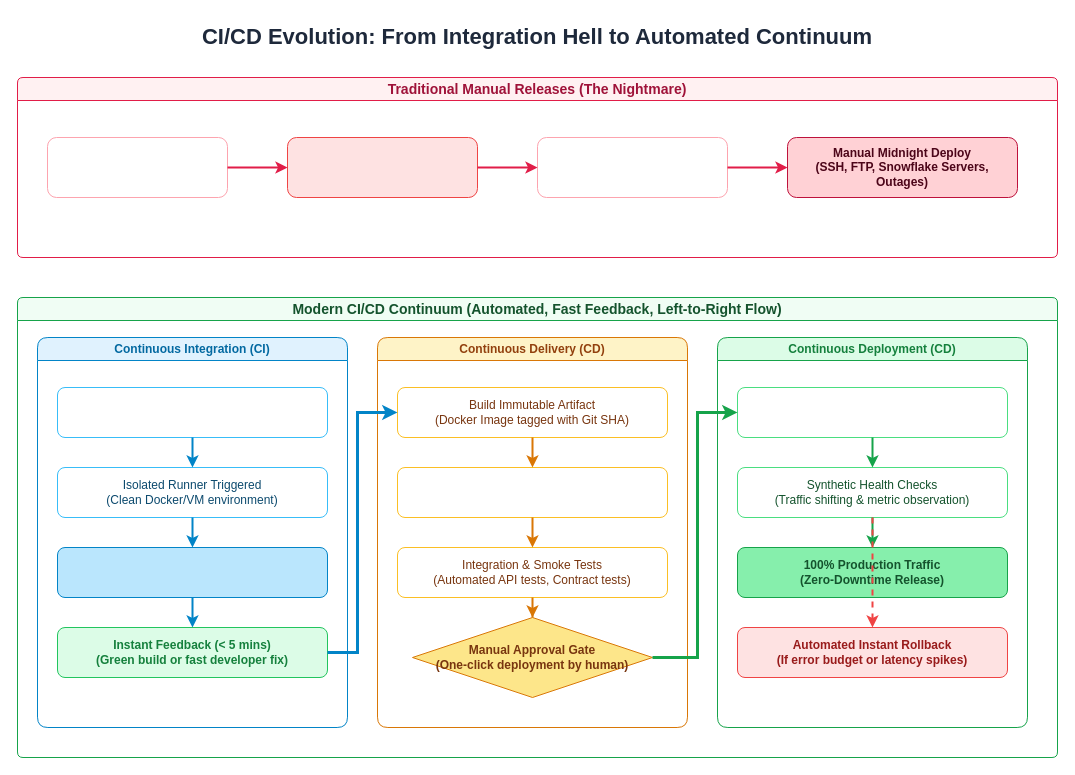
The diagram is 1075 pixels wide and 775 high, and some of its shapes have lost their labels. The shapes that lost their labels are listed below. From the top down, each one's centre as x and y in pixels, then its label:
At pixel 137 167: "Developers work in isolation (Branches live for 3-6 months)".
At pixel 382 167: "Integration Day (Hundreds of Merge Conflicts, Broken Code)".
At pixel 632 167: "Manual QA & Regression (Weeks of manual testing, high toil)".
At pixel 192 412: "Developer Commit & Push (Frequent trunk-based merges)".
At pixel 872 412: "Production Rollout Strategy (Blue/Green, Canary, Rolling)".
At pixel 532 492: "Deploy to Staging Environment (Environment parity with production)".
At pixel 192 572: "Automated Build & Tests (Unit tests, Lint, Typecheck, Security)".
